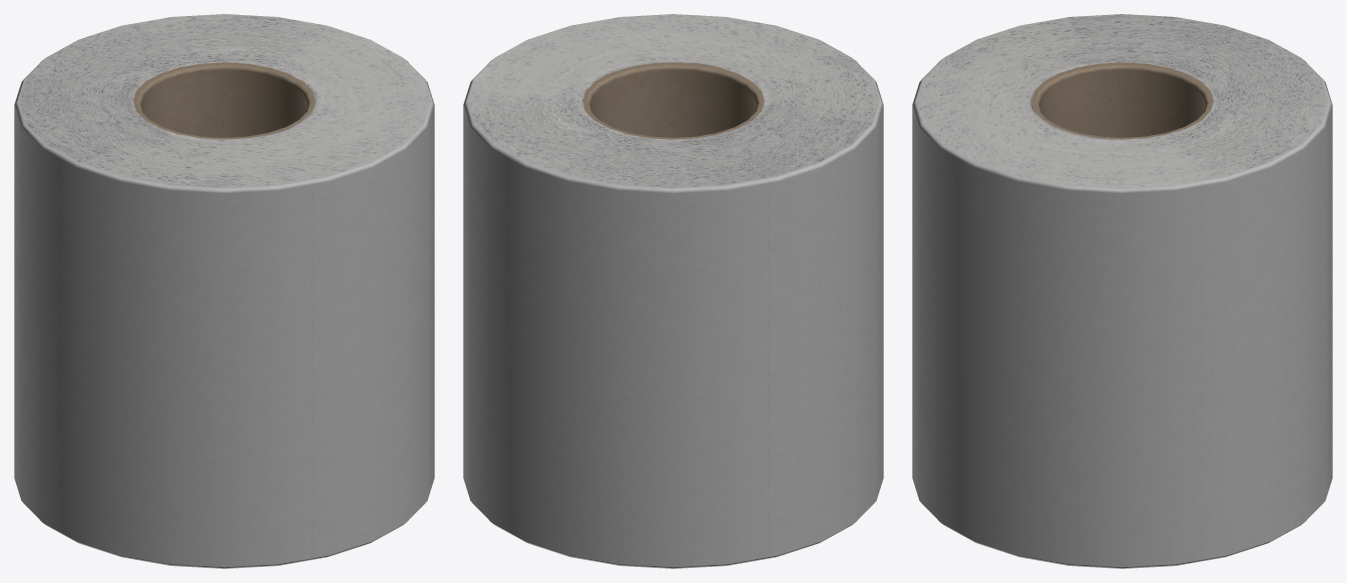
File: SM_Toiletpaper_01.fbx
The picture shows the model from 3 angles, left to right: view 1: azimuth 30°, elevation 25°; view 2: azimuth 150°, elevation 25°; view 3: azimuth 270°, elevation 25°; orthographic projection.
Visible parts, largest first — view 1: SM_Toiletpaper_01_LOD0; view 2: SM_Toiletpaper_01_LOD0; view 3: SM_Toiletpaper_01_LOD0.
Part boxes in pixels (x1,y1,x2,y2): SM_Toiletpaper_01_LOD0: [14, 14, 434, 568]; SM_Toiletpaper_01_LOD0: [463, 14, 883, 568]; SM_Toiletpaper_01_LOD0: [912, 14, 1332, 568].
Size of the model in its own units: 10 by 10 by 10.
1 material, 1 textured.
